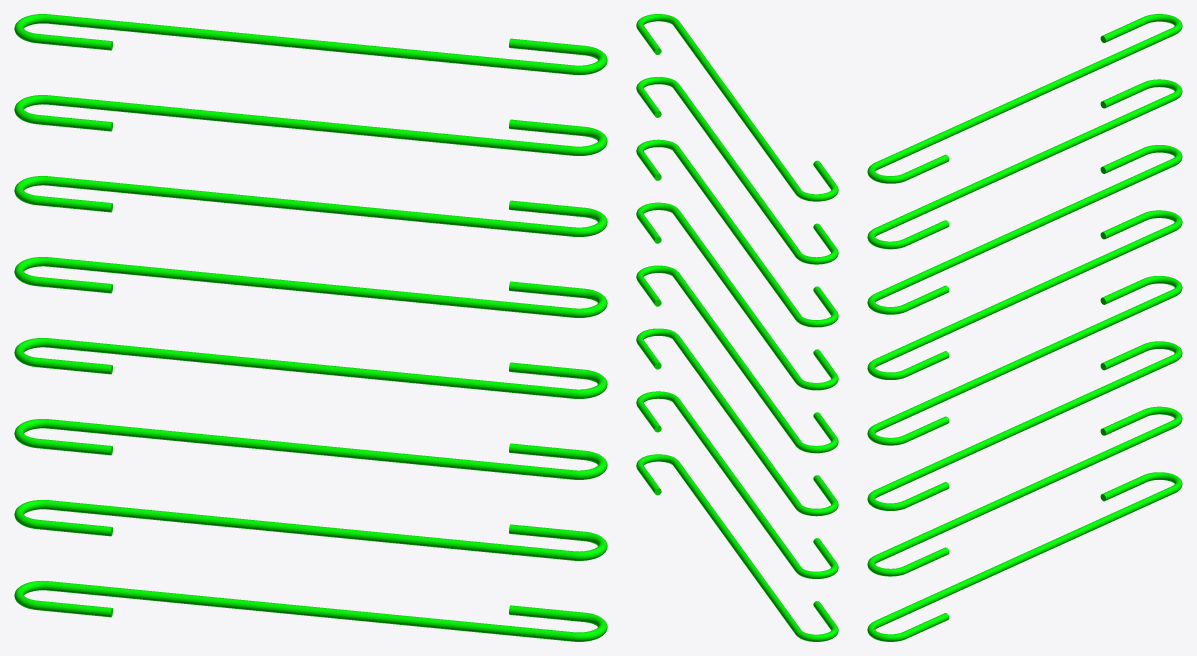
The picture shows the model from 3 angles, left to right: view 1: azimuth 30°, elevation 25°; view 2: azimuth 150°, elevation 25°; view 3: azimuth 270°, elevation 25°; orthographic projection. The views are drawn at different scales.
Visible parts, largest first — view 1: 1XuZQxK8X55B6jgWwfxdA6, 2AgeL79Lv5igrrhvyR8gyd, 1miaatMQf1nBbx03_OMRew, 2g8EeLhZjD3f9DBwyOKtr2, 1QLhv_Jfb8tPKtESoC0hhj, 2bvuaUOvPEqRT2DUMfRGG$, 2ISp09CtHDmP97J24mm3po, 0y$uW5yHr6FRovBuGjEENs; view 2: 1QLhv_Jfb8tPKtESoC0hhj, 1XuZQxK8X55B6jgWwfxdA6, 2AgeL79Lv5igrrhvyR8gyd, 2bvuaUOvPEqRT2DUMfRGG$, 1miaatMQf1nBbx03_OMRew, 2g8EeLhZjD3f9DBwyOKtr2, 2ISp09CtHDmP97J24mm3po, 0y$uW5yHr6FRovBuGjEENs; view 3: 1QLhv_Jfb8tPKtESoC0hhj, 2bvuaUOvPEqRT2DUMfRGG$, 1XuZQxK8X55B6jgWwfxdA6, 2AgeL79Lv5igrrhvyR8gyd, 1miaatMQf1nBbx03_OMRew, 2g8EeLhZjD3f9DBwyOKtr2, 2ISp09CtHDmP97J24mm3po, 0y$uW5yHr6FRovBuGjEENs.
Boxes of the visible parts, <box> form: 1XuZQxK8X55B6jgWwfxdA6: <box>14,419,607,479</box>; 2AgeL79Lv5igrrhvyR8gyd: <box>14,176,607,236</box>; 1miaatMQf1nBbx03_OMRew: <box>14,338,607,398</box>; 2g8EeLhZjD3f9DBwyOKtr2: <box>14,257,607,317</box>; 1QLhv_Jfb8tPKtESoC0hhj: <box>14,500,607,560</box>; 2bvuaUOvPEqRT2DUMfRGG$: <box>14,95,607,155</box>; 2ISp09CtHDmP97J24mm3po: <box>14,580,607,641</box>; 0y$uW5yHr6FRovBuGjEENs: <box>14,14,607,75</box>; 1QLhv_Jfb8tPKtESoC0hhj: <box>636,391,838,578</box>; 1XuZQxK8X55B6jgWwfxdA6: <box>636,328,838,516</box>; 2AgeL79Lv5igrrhvyR8gyd: <box>636,139,838,327</box>; 2bvuaUOvPEqRT2DUMfRGG$: <box>636,77,838,264</box>; 1miaatMQf1nBbx03_OMRew: <box>636,265,838,453</box>; 2g8EeLhZjD3f9DBwyOKtr2: <box>636,202,838,390</box>; 2ISp09CtHDmP97J24mm3po: <box>636,454,838,641</box>; 0y$uW5yHr6FRovBuGjEENs: <box>636,14,838,201</box>; 1QLhv_Jfb8tPKtESoC0hhj: <box>867,406,1182,576</box>; 2bvuaUOvPEqRT2DUMfRGG$: <box>867,79,1182,249</box>; 1XuZQxK8X55B6jgWwfxdA6: <box>867,341,1182,510</box>; 2AgeL79Lv5igrrhvyR8gyd: <box>867,145,1182,314</box>; 1miaatMQf1nBbx03_OMRew: <box>867,276,1182,445</box>; 2g8EeLhZjD3f9DBwyOKtr2: <box>867,210,1182,379</box>; 2ISp09CtHDmP97J24mm3po: <box>867,472,1182,641</box>; 0y$uW5yHr6FRovBuGjEENs: <box>867,14,1182,183</box>.
Size of the model in its own units: 0.8126 by 1.07 by 0.6544.
